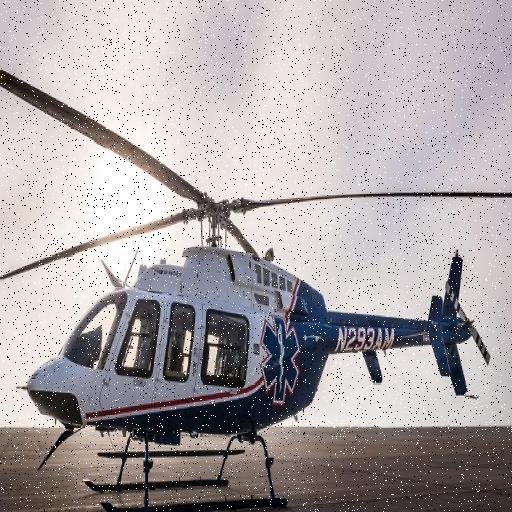helicopter: (1, 15, 498, 512)
